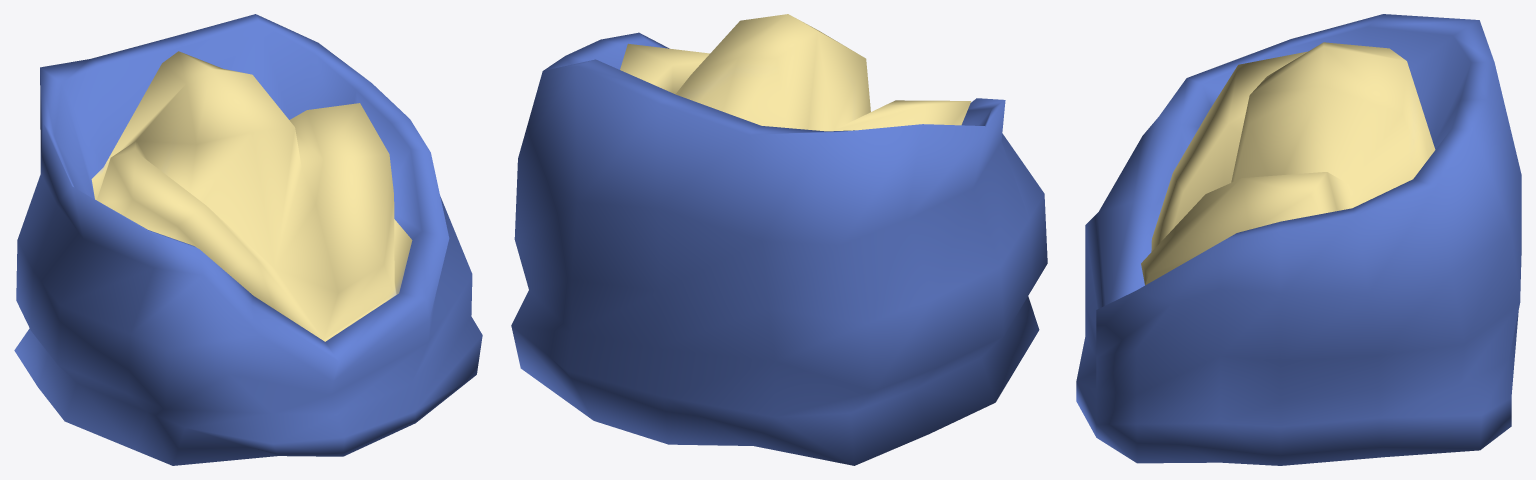
Rendered from minichef_ingrediente_queso.fbx.
The picture shows the model from 3 angles, left to right: view 1: azimuth 30°, elevation 25°; view 2: azimuth 150°, elevation 25°; view 3: azimuth 270°, elevation 25°; orthographic projection. The views are drawn at different scales.
Parts seen in each view (by area): view 1: Queso saco; view 2: Queso saco; view 3: Queso saco.
Boxes of the visible parts, x1,y1,x2,y2 form: Queso saco: (14, 14, 482, 465); Queso saco: (511, 14, 1047, 465); Queso saco: (1076, 14, 1521, 465).
Size of the model in its own units: 195 by 157 by 184.
